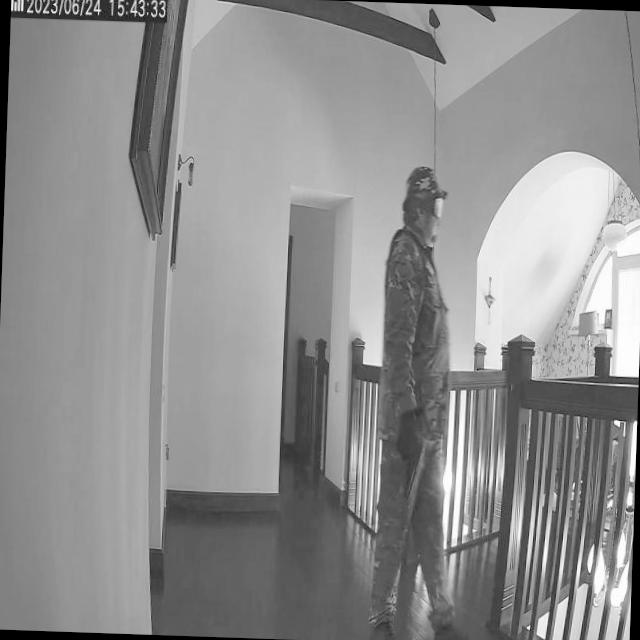gun: (397, 431, 425, 500)
person with a gun: (369, 159, 484, 640)
